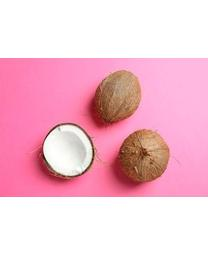coconut: (41, 121, 96, 180), (119, 129, 171, 182), (95, 70, 143, 124)
